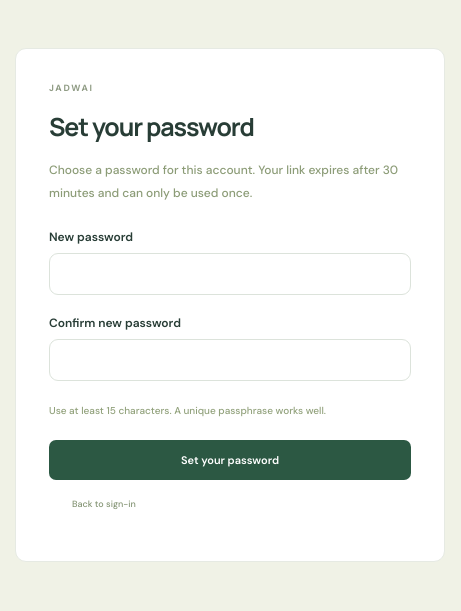
Test: password reset checks matching values before transmitting token
Type "first-password-123" into the password field labelled "New password".
click(230, 274); type("first-password-123")  # box [49,253,411,295]
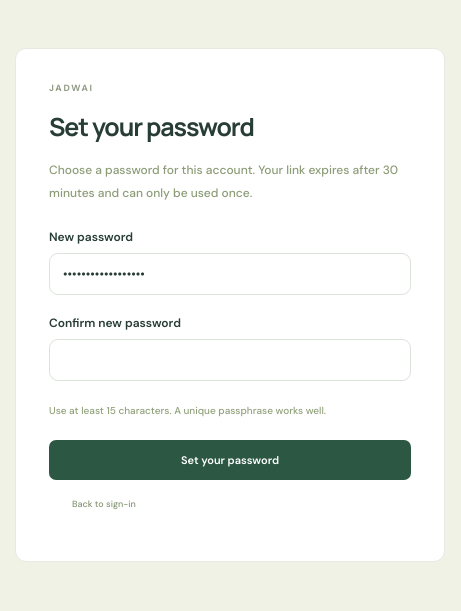
Type "other-password-123" into the password field labelled "Confirm new password".
click(230, 360); type("other-password-123")  # box [49,339,411,381]
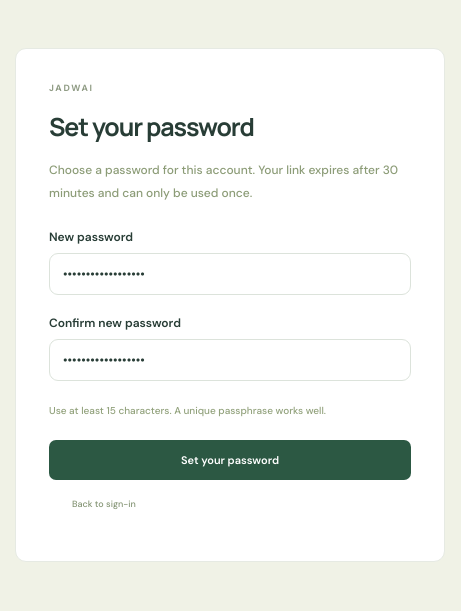
Click the button "Set your password".
click(230, 460)  # box [49,440,411,480]
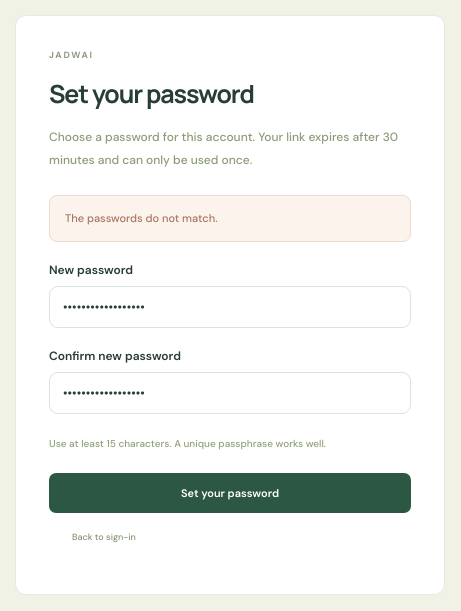
Now the message shows "do not match", box [65,212,218,226]
